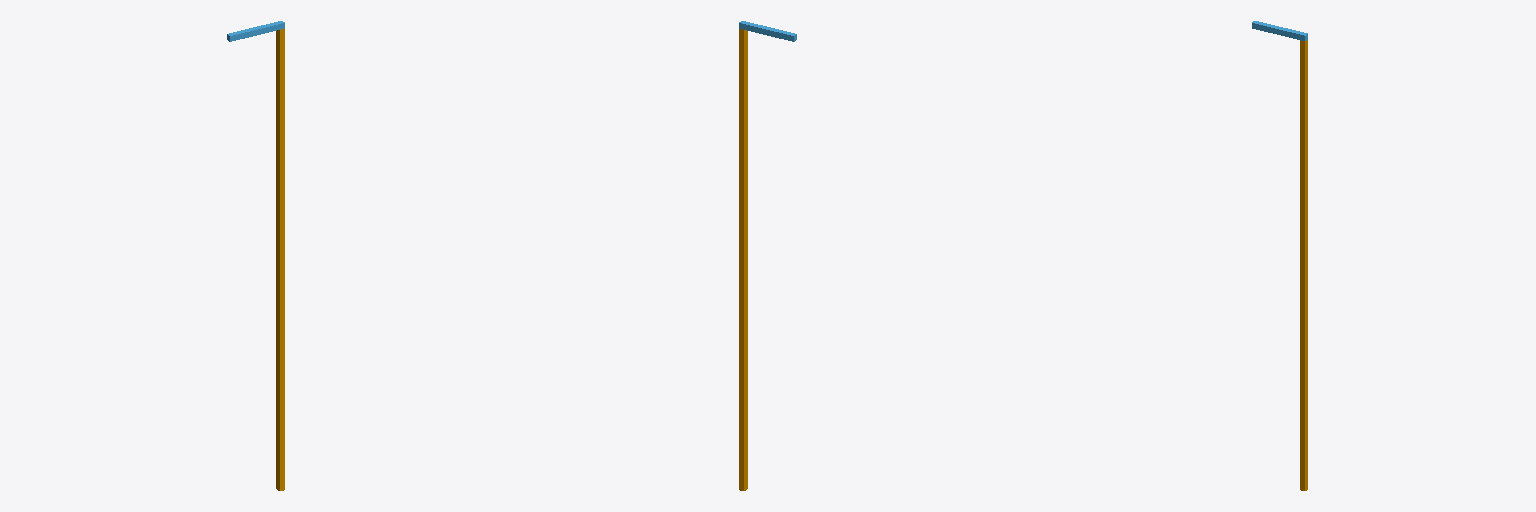
The robot description file, URDF, robot "L515_camera_with_stand":
<?xml version="1.0" ?>
<robot name="L515_camera_with_stand">
  <link name="vertical_link">
    <inertial>
      <origin rpy="0 0 0" xyz="0 0 0"/>
       <mass value="2.5"/>
       <inertia ixx="0.1" ixy="0" ixz="0" iyy="0.1" iyz="0" izz="0.1"/>
    </inertial>
    <visual>
      <geometry>
        <box size="0.01 0.01 0.8"/>
      </geometry>
    </visual>
  </link>

  <link name="horizontal_link">
    <inertial>
      <origin rpy="0 0 0" xyz="0 0 0"/>
       <mass value="2.5"/>
       <inertia ixx="0.1" ixy="0" ixz="0" iyy="0.1" iyz="0" izz="0.1"/>
    </inertial>
    <visual>
      <geometry>
        <box size="0.1 0.01 0.01"/>
      </geometry>
    </visual>
  </link>

<link name="camera_link">
 <inertial>
      <origin rpy="0 0 0" xyz="0 0 0"/>
       <mass value="0.4"/>
       <inertia ixx="0.1" ixy="0" ixz="0" iyy="0.1" iyz="0" izz="0.1"/>
    </inertial>
   <visual>
    <geometry>
      <mesh filename="l515.dae"/>
      <origin rpy="0 0 0" xyz="0 0 0"/>
    </geometry>
   </visual>
   </link>

<joint name="vertical_to_horizontal" type="fixed">
    <parent link="vertical_link"/>
    <child link="horizontal_link"/>
    <origin xyz="-0.045 0 0.405"/>
  </joint>

<joint name="camera_joint" type="fixed">
    <parent link="horizontal_link"/>
    <child link="camera_link"/>
    <origin rpy="3.1416 0.5236 0" xyz="-0.05 0 -0.014"/>
  </joint>
#originally 0.7854 
</robot>

--- What the picture shows (computed from the rendered views, not written in the file) ---
Views: 3 orthographic renders of the robot side by side, from view 1: azimuth 30°, elevation 25°; view 2: azimuth 150°, elevation 25°; view 3: azimuth 330°, elevation 25°.
Robot: L515_camera_with_stand — 3 links, 2 joints (2 fixed); root link vertical_link; default pose: every joint at zero.
Links seen in each view (by area): view 1: vertical_link; view 2: vertical_link; view 3: vertical_link.
Link boxes in pixels (x1,y1,x2,y2): vertical_link: (276, 29, 284, 490); vertical_link: (739, 29, 747, 490); vertical_link: (1300, 40, 1307, 490).
Bounding box of the posed robot: 0.1 × 0.01 × 0.81 m (x, y, z).
Meshes: 1 distinct files referenced, 0 mesh visuals loaded (none loaded); not drawn: 1 (reference not matched to a file when rendering).
